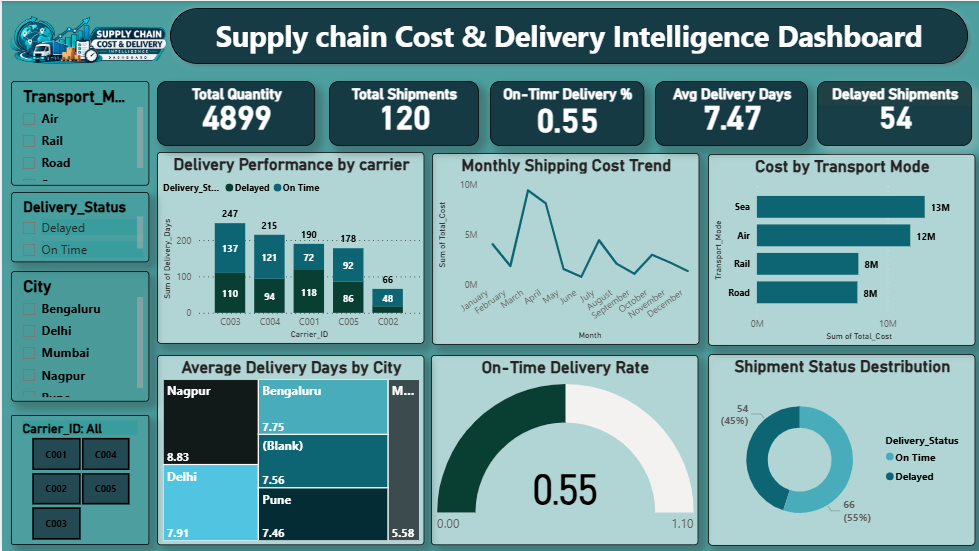

Layout of this report page (visuals, bound fields, positions):
{"tool":"powerbi","page":{"name":"Page 1","canvas":[1280,720],"ordinal":0},"visuals":[{"type":"donutChart","title":"Shipment Status Destribution","fields":{"Y":["Shipments.Total Shipments"],"Category":["Shipments.Delivery_Status"]},"box":[924.5,462.2,349.9,250.6],"z":0},{"type":"gauge","title":"On-Time Delivery Rate","fields":{"Y":["Shipments.On-Time Delivery %"]},"box":[561.6,463.7,349.9,249.1],"z":1000},{"type":"lineChart","title":"Monthly Shipping Cost Trend","fields":{"Y":["Sum(Shipments.Total_Cost)"],"Category":["Shipments.Order_Date.Variation.Date Hierarchy.Month"]},"box":[563,198.7,349.9,250.6],"z":2000},{"type":"clusteredBarChart","title":"Cost by Transport Mode","fields":{"Category":["Transport.Transport_Mode"],"Y":["Sum(Shipments.Total_Cost)"]},"box":[924.5,200.2,349.9,250.6],"z":3000},{"type":"treemap","title":"Average Delivery Days by City","fields":{"Values":["Shipments.Avg Delivery Days"],"Details":["Warehouses.City"]},"box":[203,463.7,349.9,249.1],"z":4000},{"type":"columnChart","title":"Delivery Performance by carrier","fields":{"Category":["Shipments.Carrier_ID"],"Y":["Sum(Shipments.Delivery_Days)"],"Series":["Shipments.Delivery_Status"]},"box":[203,197.3,349.9,250.6],"z":5000},{"type":"card","title":"Total Quantity","fields":{"Values":["Shipments.Total Quantity"]},"box":[203,105.1,207.4,85],"z":6000},{"type":"card","title":"Total Shipments","fields":{"Values":["Shipments.Total Shipments"]},"box":[427.7,105.1,195.8,85],"z":7000},{"type":"card","title":"On-Timr Delivery %","fields":{"Values":["Shipments.On-Time Delivery %"]},"box":[639.4,105.1,201.6,85],"z":8000},{"type":"card","title":"Avg Delivery Days","fields":{"Values":["Shipments.Avg Delivery Days"]},"box":[855.4,105.1,200.2,85],"z":9000},{"type":"card","title":"Delayed Shipments","fields":{"Values":["Carriers.Delayed Shipments"]},"box":[1067,105.1,203,85],"z":10000},{"type":"shape","box":[0,0,1265.9,92.2],"z":11000},{"type":"slicer","fields":{"Values":["Carriers.Carrier_ID"]},"box":[11.5,541.4,181.4,169.9],"z":12000},{"type":"slicer","fields":{"Values":["Transport.Transport_Mode"]},"box":[11.5,105.1,181.4,136.8],"z":13000},{"type":"slicer","fields":{"Values":["Shipments.Delivery_Status"]},"box":[11.5,250.6,181.4,92.2],"z":14000},{"type":"slicer","fields":{"Values":["Warehouses.City"]},"box":[11.5,352.8,181.4,171.4],"z":15000}]}

Visuals, with their boxes in screenshot pixels (x1, y1, x2, y2), scaled from the page's 1280x720 canvas onto the 979x551 screenshot:
"Shipment Status Destribution" donutChart: 707, 354, 975, 545
"On-Time Delivery Rate" gauge: 430, 355, 697, 545
"Monthly Shipping Cost Trend" lineChart: 431, 152, 698, 344
"Cost by Transport Mode" clusteredBarChart: 707, 153, 975, 345
"Average Delivery Days by City" treemap: 155, 355, 423, 545
"Delivery Performance by carrier" columnChart: 155, 151, 423, 343
"Total Quantity" card: 155, 80, 314, 145
"Total Shipments" card: 327, 80, 477, 145
"On-Timr Delivery %" card: 489, 80, 643, 145
"Avg Delivery Days" card: 654, 80, 807, 145
"Delayed Shipments" card: 816, 80, 971, 145
shape: 0, 0, 968, 71
slicer - Carriers.Carrier_ID: 9, 414, 148, 544
slicer - Transport.Transport_Mode: 9, 80, 148, 185
slicer - Shipments.Delivery_Status: 9, 192, 148, 262
slicer - Warehouses.City: 9, 270, 148, 401
